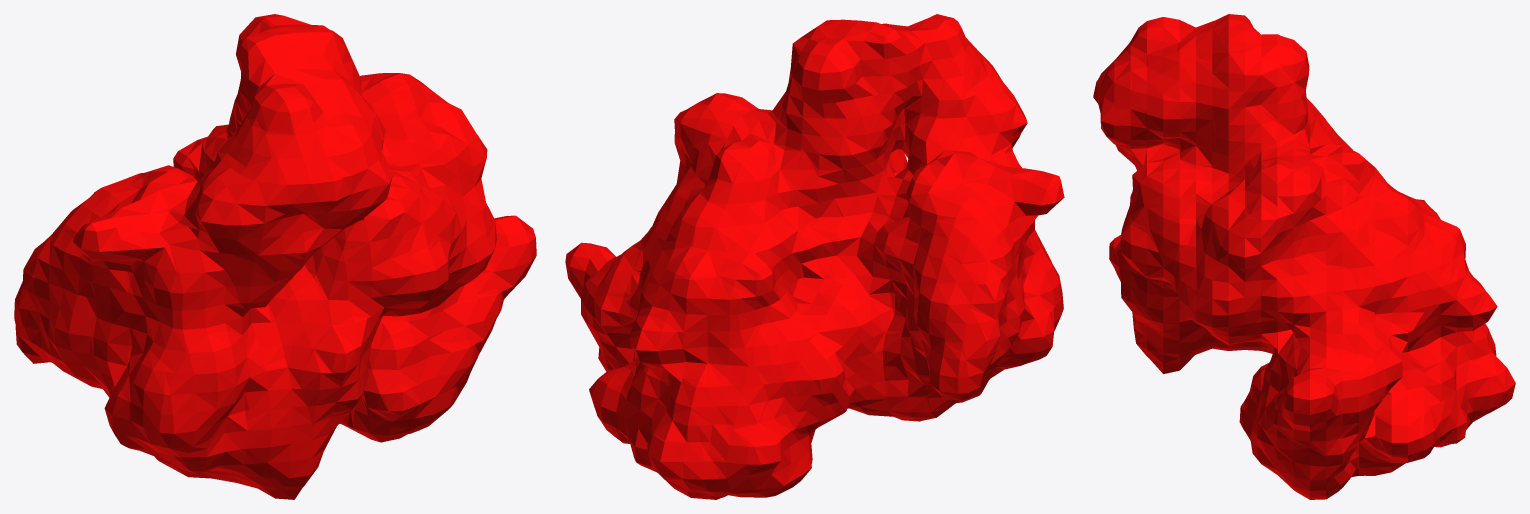
File: yhdP_coarse.dae
3 renders of one model, left to right at view 1: azimuth 30°, elevation 25°; view 2: azimuth 150°, elevation 25°; view 3: azimuth 270°, elevation 25°, orthographic. The views are drawn at different scales.
Visible parts, largest first — view 1: yhdP; view 2: yhdP; view 3: yhdP.
Boxes of the visible parts, x1=… form: yhdP: x1=14, y1=14, x2=536, y2=499; yhdP: x1=565, y1=14, x2=1064, y2=499; yhdP: x1=1093, y1=14, x2=1515, y2=499.
Size of the model in its own units: 109 by 97.41 by 92.85.
